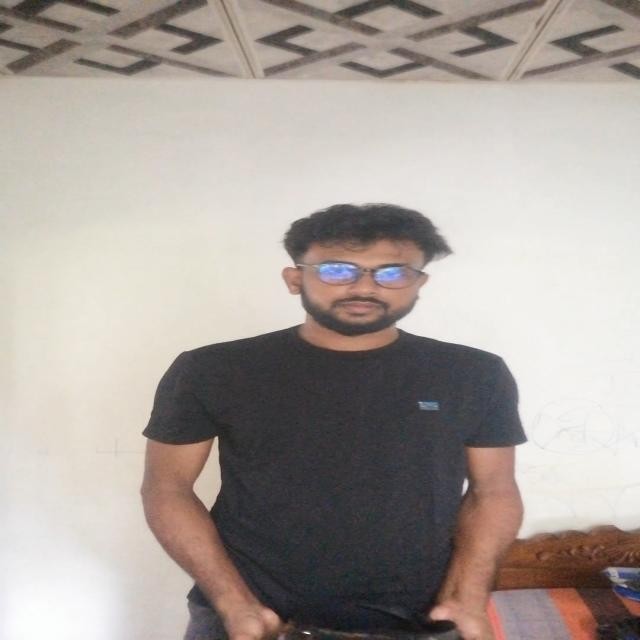Person: (136, 198, 526, 640)
